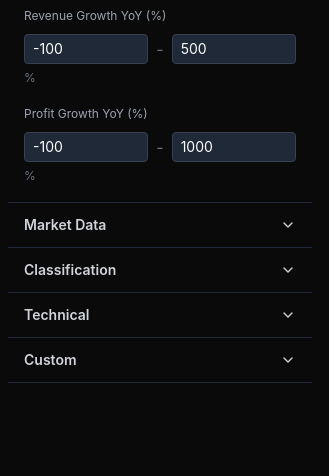
Test: FilterPanel › renders boolean filters
This screenshot has width=329, height=476.
(page scrolled)
Click the button "Custom" at (50, 360), box 8,338 -> 312,382
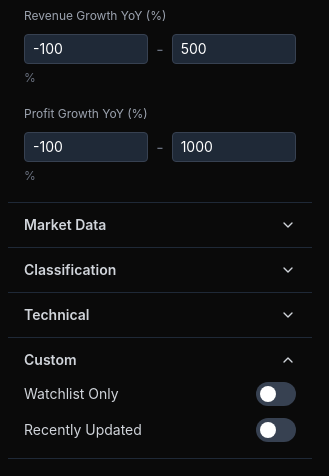
expect the text "Watchlist Only" is shown: met, box 24,384 -> 119,404
expect the text "Recently Updated" is shown: met, box 24,420 -> 142,440
